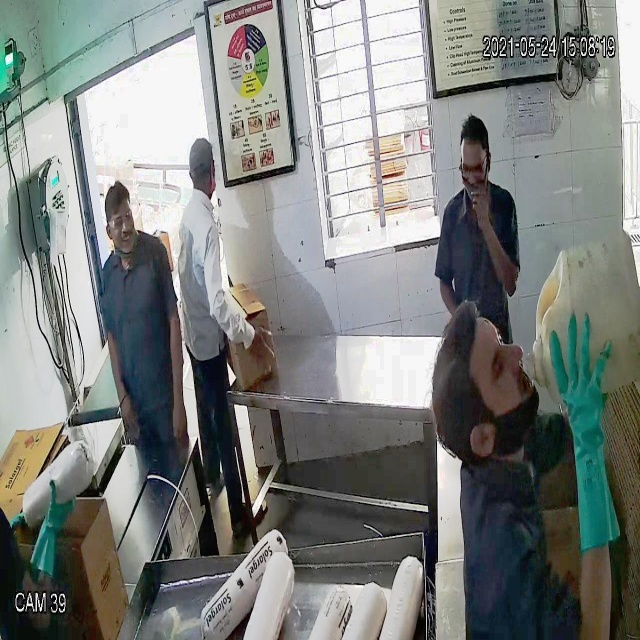Gafas: (102, 205, 138, 238), (458, 149, 492, 183)
Sin_gafas: (485, 313, 513, 448)
